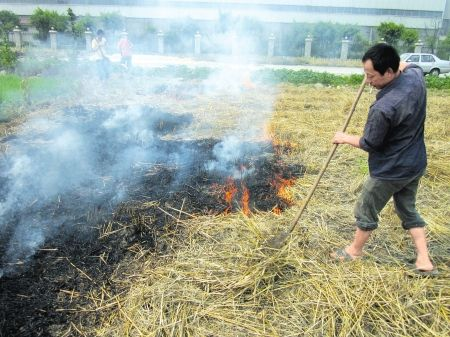smoke: (32, 93, 248, 186)
